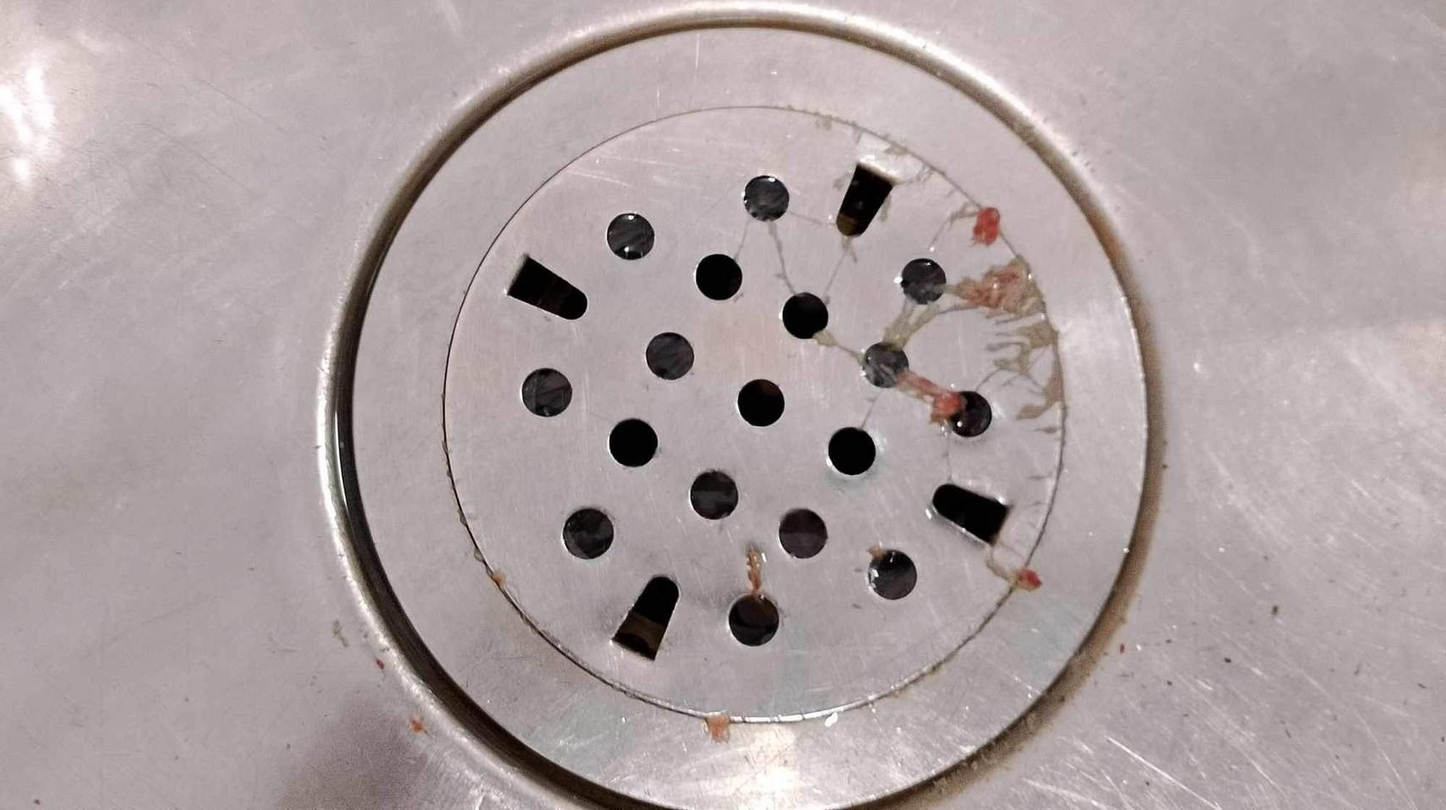General: (4, 3, 1438, 806), (453, 138, 1065, 716)
